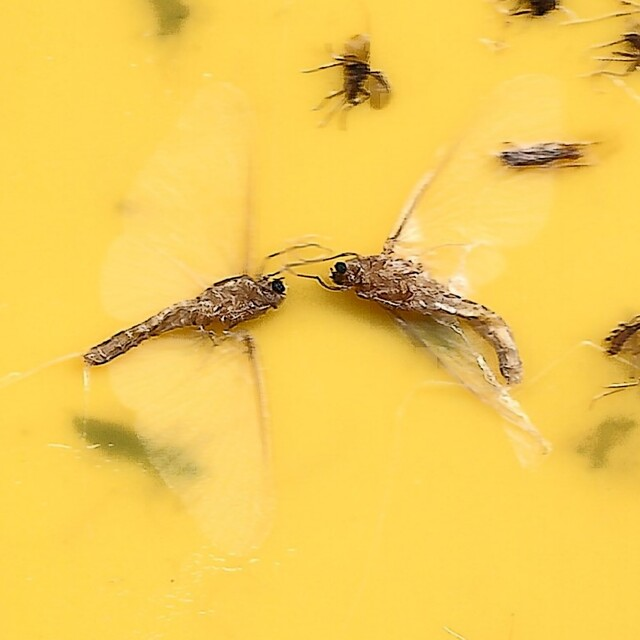Ephemeroptera: (82, 69, 292, 571), (299, 77, 558, 467)
